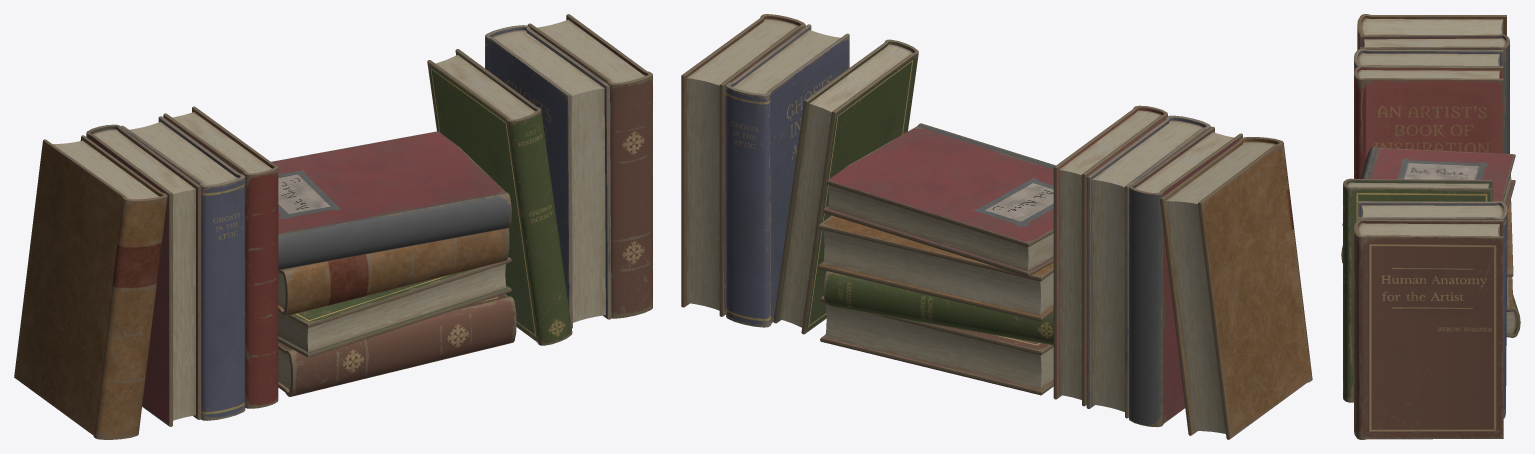
Rendered from old_books.glb.
The picture shows the model from 3 angles, left to right: view 1: azimuth 30°, elevation 25°; view 2: azimuth 150°, elevation 25°; view 3: azimuth 270°, elevation 25°; orthographic projection. The views are drawn at different scales.
Parts seen in each view (by area): view 1: OldBooksPiles_01a.003; view 2: OldBooksPiles_01a.003; view 3: OldBooksPiles_01a.003.
Boxes of the visible parts, x1=… form: OldBooksPiles_01a.003: x1=14, y1=14, x2=652, y2=439; OldBooksPiles_01a.003: x1=681, y1=14, x2=1312, y2=439; OldBooksPiles_01a.003: x1=1341, y1=14, x2=1520, y2=439.
Size of the model in its own units: 86.94 by 35.87 by 28.06.
Materials: 1 (1 with a texture image).
